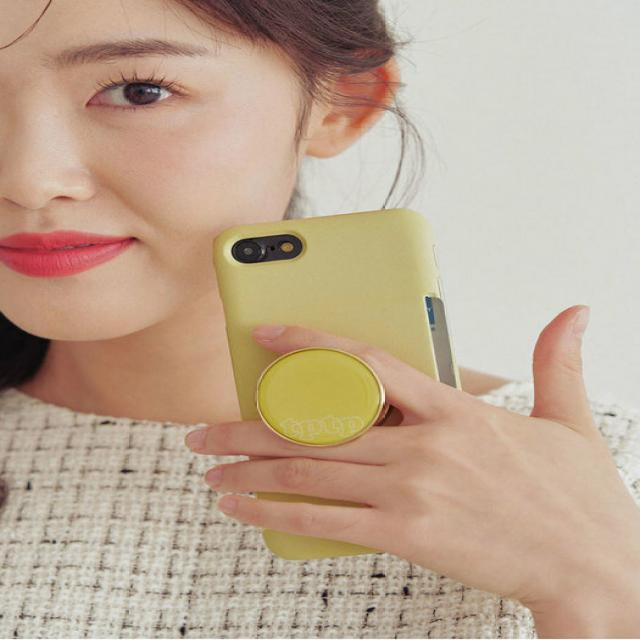phone: (209, 210, 472, 558)
